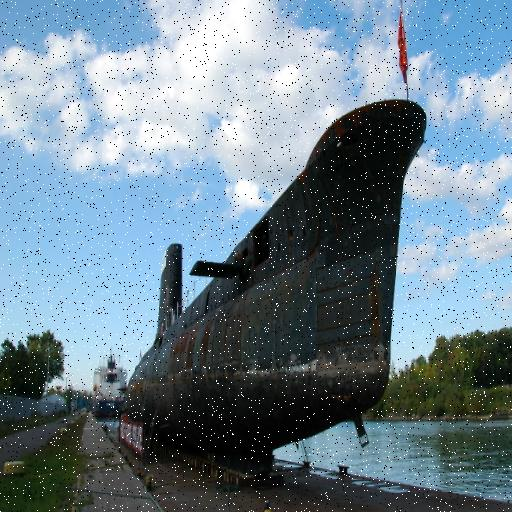submarine: (125, 109, 426, 438)
